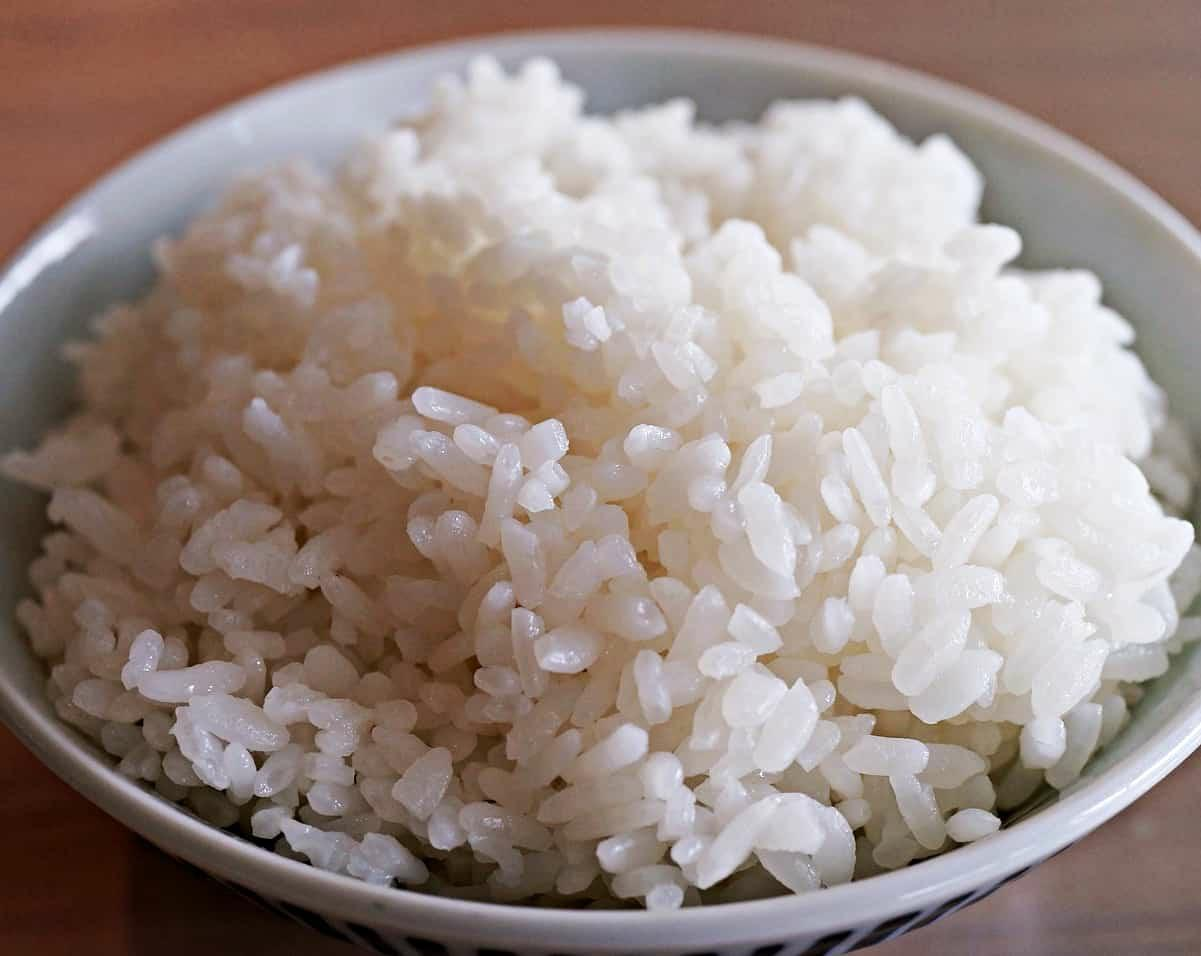WhiteRice: (0, 58, 1201, 912)
